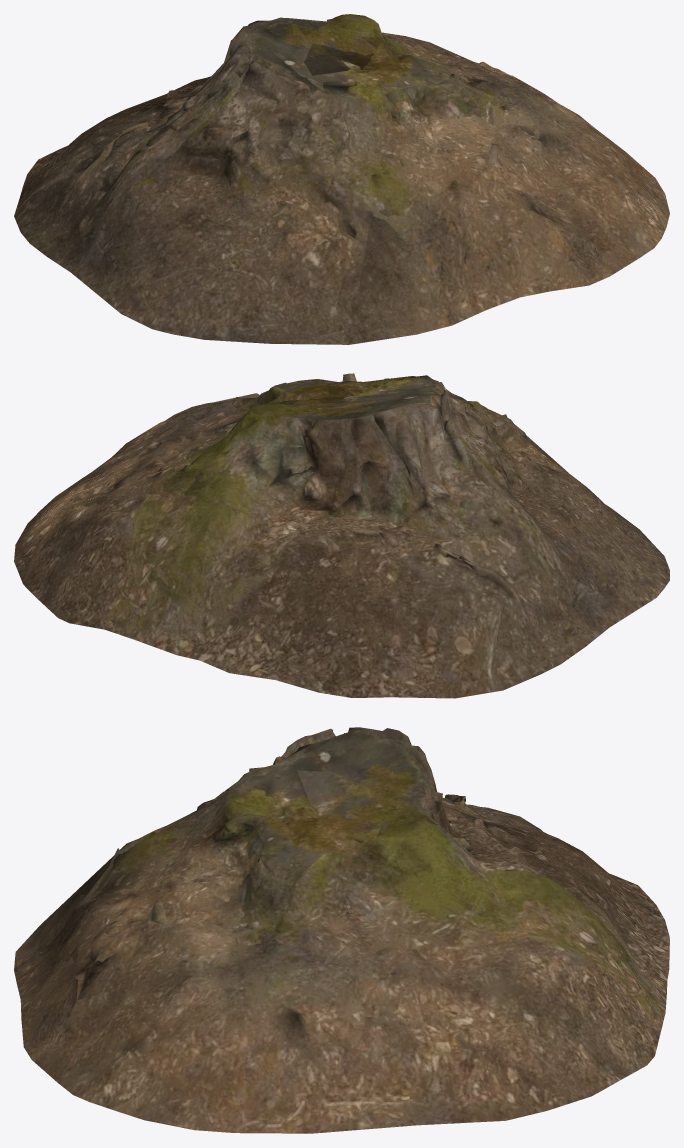
Rendered from tree_stump_02.glb.
3 views of the same model, one above another, from view 1: azimuth 30°, elevation 25°; view 2: azimuth 150°, elevation 25°; view 3: azimuth 270°, elevation 25° (orthographic). The views are drawn at different scales.
Visible parts, largest first — view 1: tree_stump_02_lo, tree_stump_02; view 2: tree_stump_02, tree_stump_02_lo; view 3: tree_stump_02_lo, tree_stump_02.
Boxes of the visible parts, x1,y1,x2,y2 form: tree_stump_02_lo: (14,18,669,344); tree_stump_02: (14,14,669,344); tree_stump_02: (14,373,669,698); tree_stump_02_lo: (15,375,669,698); tree_stump_02_lo: (15,727,669,1133); tree_stump_02: (14,727,669,1133).
Size of the model in its own units: 1.52 by 0.5196 by 1.39.
Materials: 1 (1 with a texture image).
